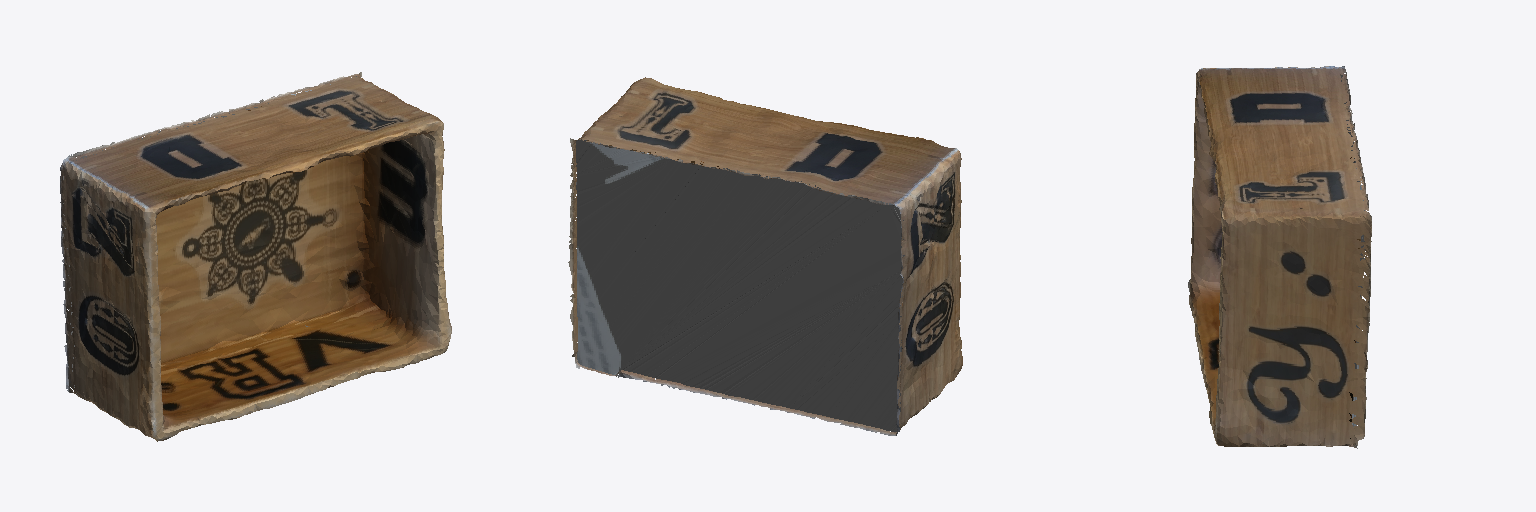
3 views of the same model, side by side, from view 1: azimuth 30°, elevation 25°; view 2: azimuth 150°, elevation 25°; view 3: azimuth 270°, elevation 25° (orthographic).
Bounding box in the file's own units: 0.2511 × 0.1767 × 0.1208.
2 materials, 1 textured.